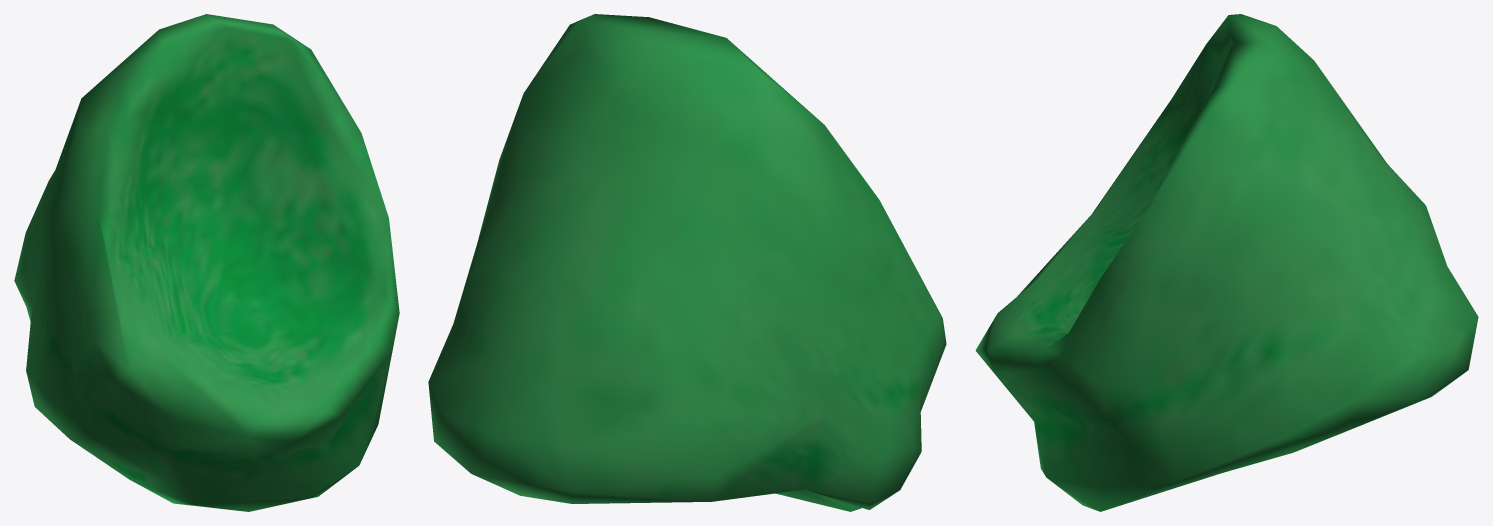
Rendered from Laryngeal_Cartilages_Circoid.glb.
The picture shows the model from 3 angles, left to right: view 1: azimuth 30°, elevation 25°; view 2: azimuth 150°, elevation 25°; view 3: azimuth 270°, elevation 25°; orthographic projection. The views are drawn at different scales.
Parts seen in each view (by area): view 1: laryngeal_cartilages_cricoid.001; view 2: laryngeal_cartilages_cricoid.001; view 3: laryngeal_cartilages_cricoid.001.
Part boxes in pixels (<box>): laryngeal_cartilages_cricoid.001: <box>14,14,399,511</box>; laryngeal_cartilages_cricoid.001: <box>428,14,946,511</box>; laryngeal_cartilages_cricoid.001: <box>975,14,1478,511</box>.
Size of the model in its own units: 0.0533 by 0.0655 by 0.0662.
Materials: 1 (1 with a texture image).
